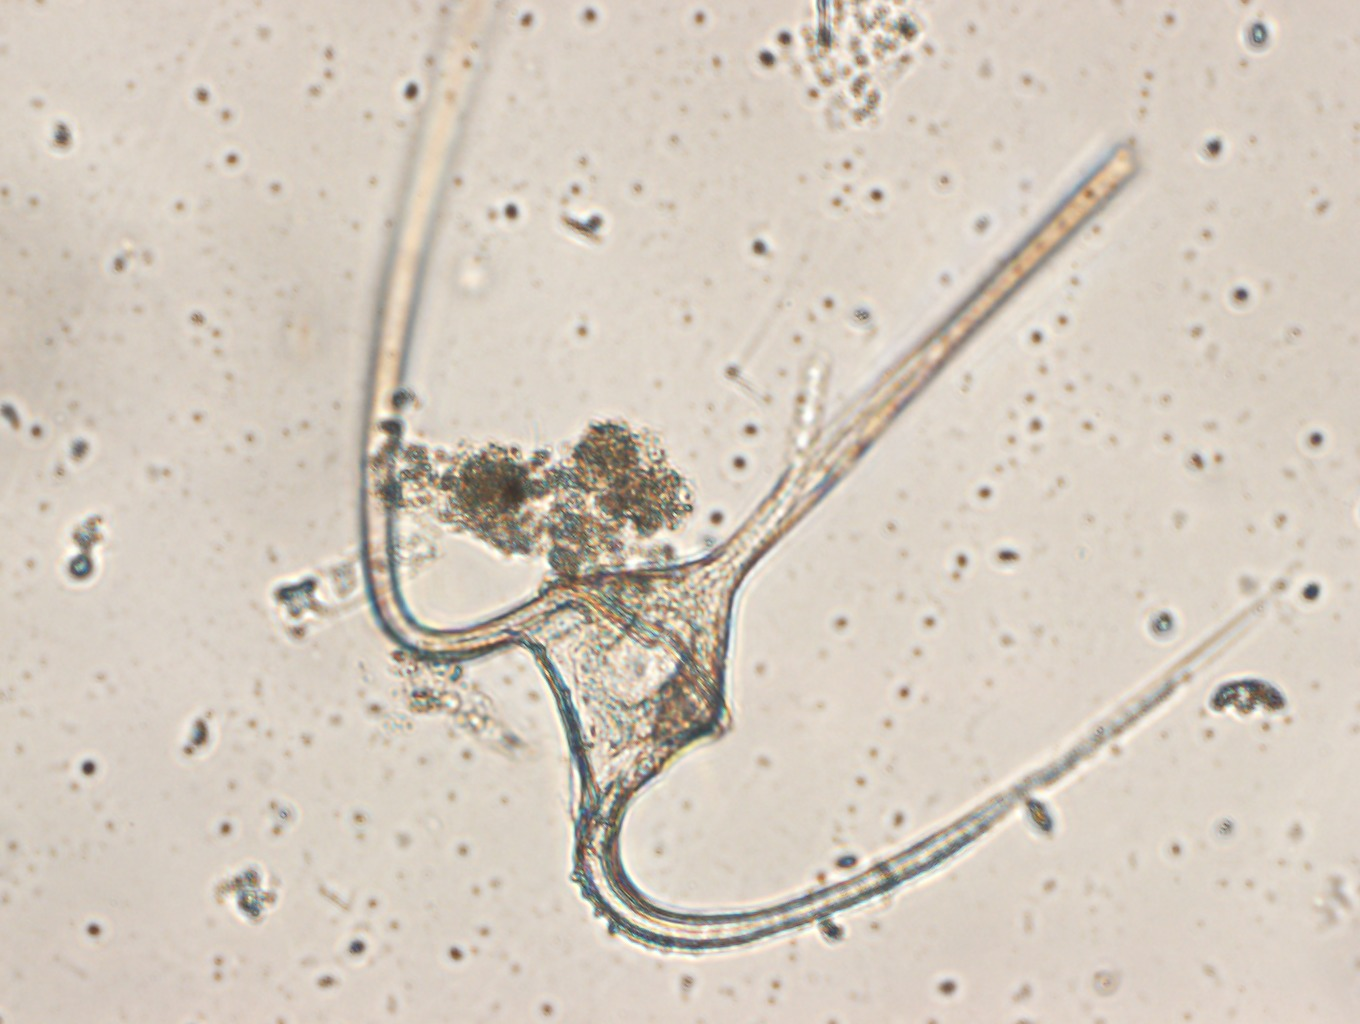ceratium trichoceros: (359, 1, 1244, 953)
